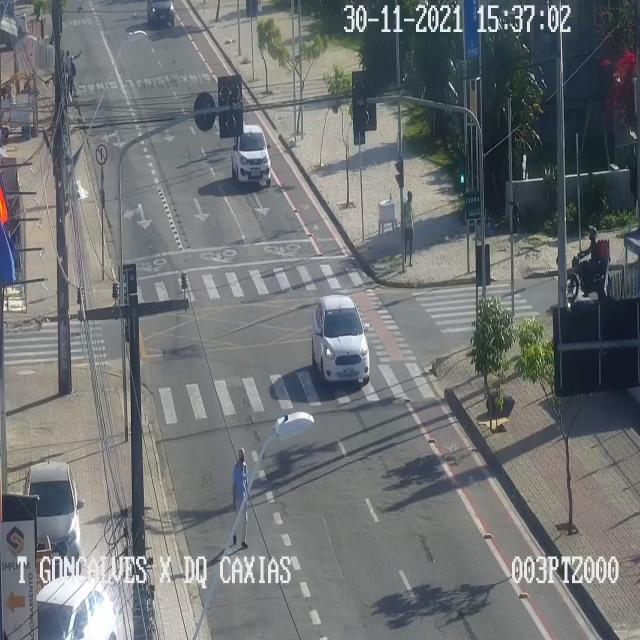Car: (24, 462, 84, 572), (36, 572, 124, 639), (310, 294, 368, 387), (230, 122, 274, 186), (147, 0, 176, 29)
Motorcycle: (565, 225, 619, 305)
